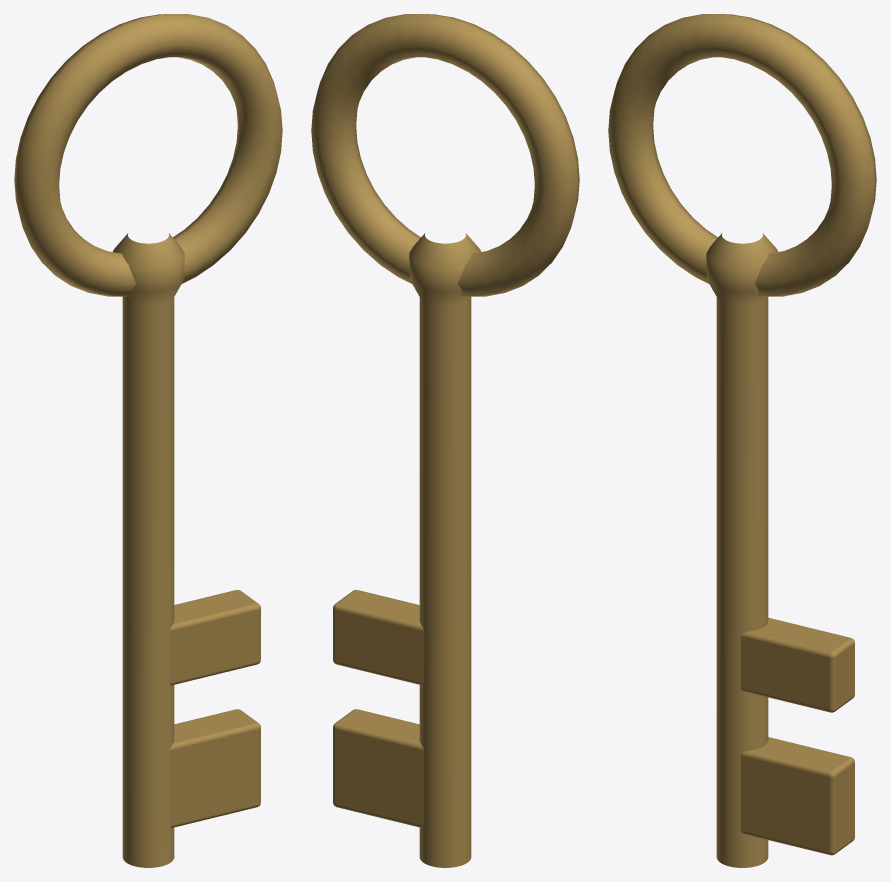
Rendered from props_p8__p8_key.glb.
The picture shows the model from 3 angles, left to right: view 1: azimuth 30°, elevation 25°; view 2: azimuth 150°, elevation 25°; view 3: azimuth 330°, elevation 25°; orthographic projection.
Parts seen in each view (by area): view 1: reference_static_surfaces (×2); view 2: reference_static_surfaces (×2); view 3: reference_static_surfaces (×2).
Boxes of the visible parts, bbox=[...] form: reference_static_surfaces (×2): bbox=[14, 14, 282, 867]; reference_static_surfaces (×2): bbox=[311, 14, 579, 867]; reference_static_surfaces (×2): bbox=[608, 14, 876, 867].
Size of the model in its own units: 0.0496 by 0.151 by 0.0118.
